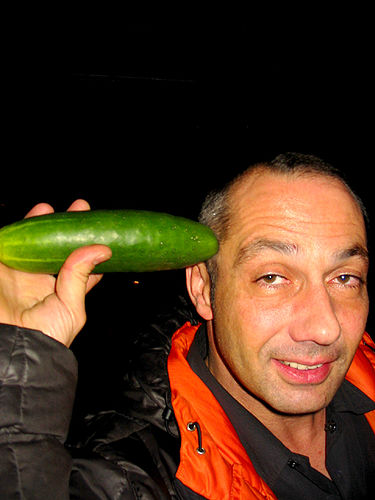cucumber: (2, 208, 221, 270)
